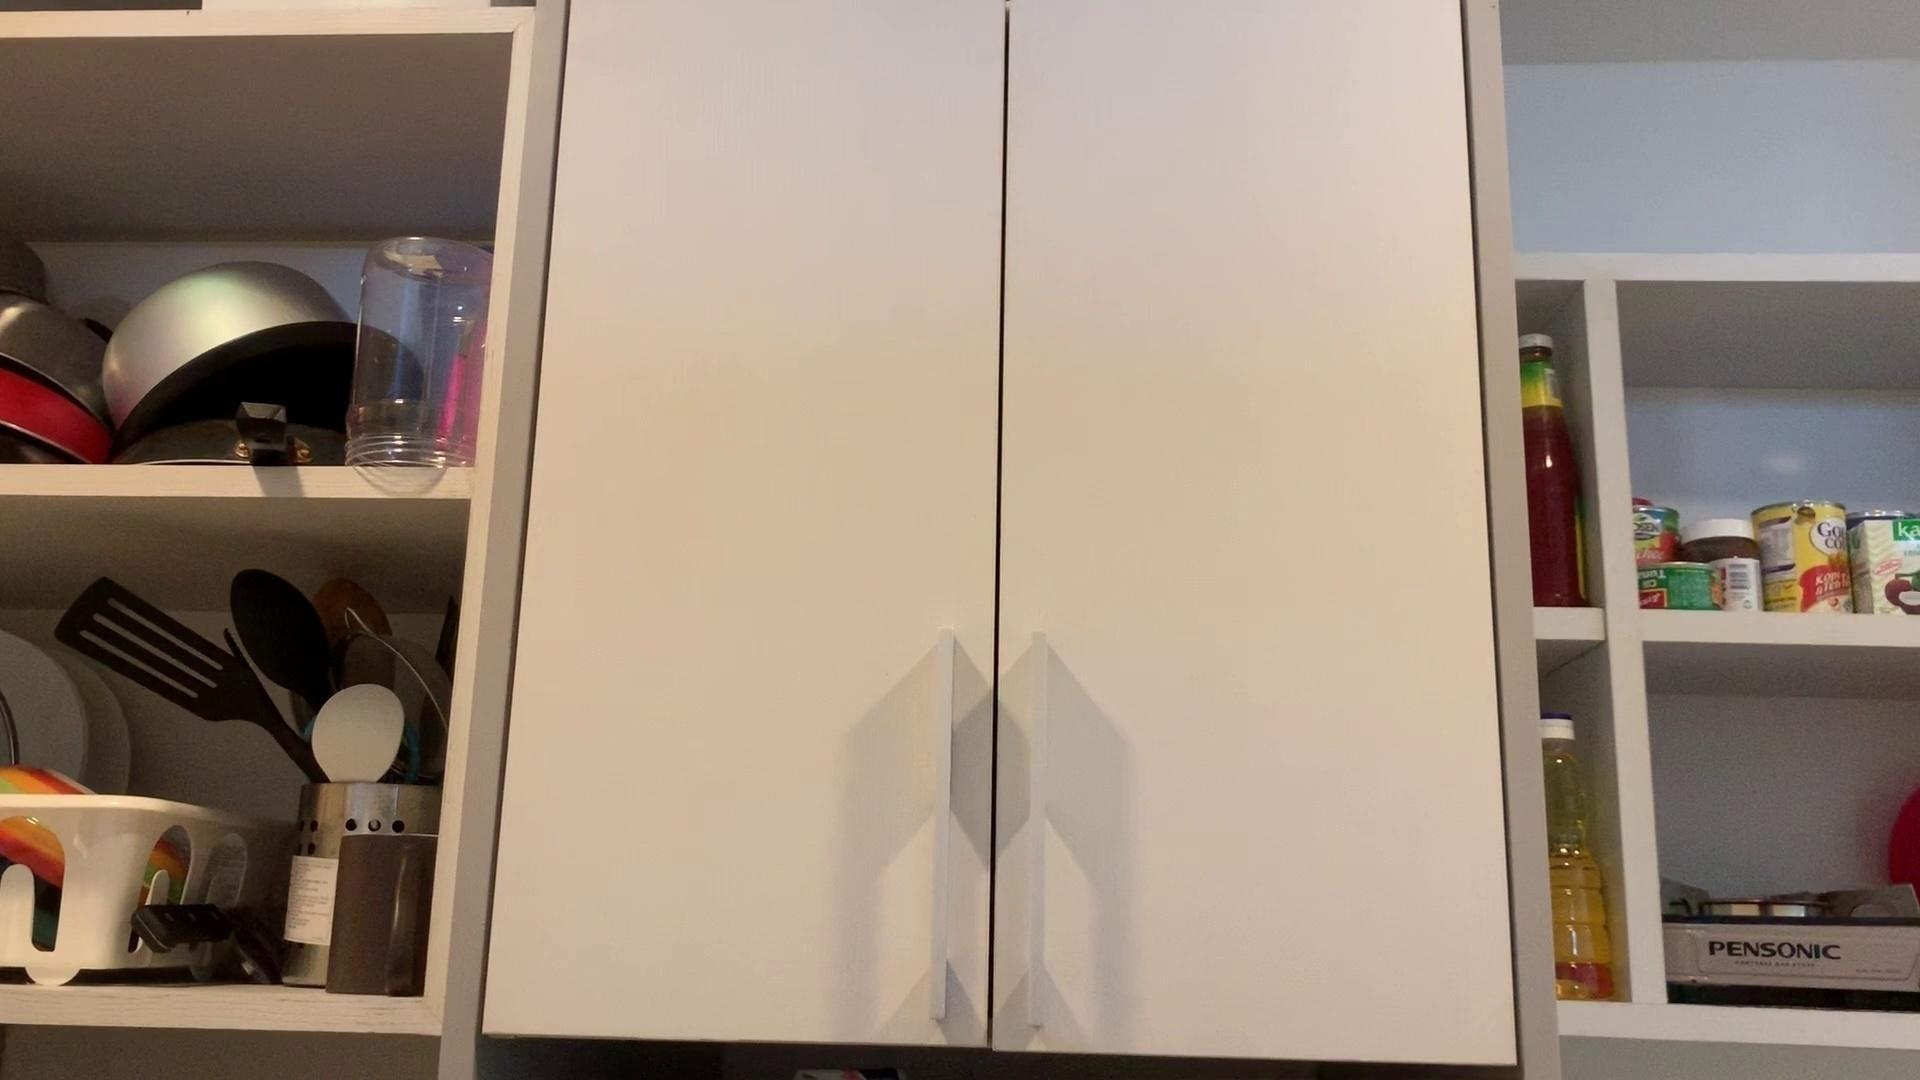cabinet_door: (1011, 0, 1470, 1056), (550, 5, 992, 1048)
handle: (915, 621, 964, 1031), (1018, 618, 1056, 1038)
